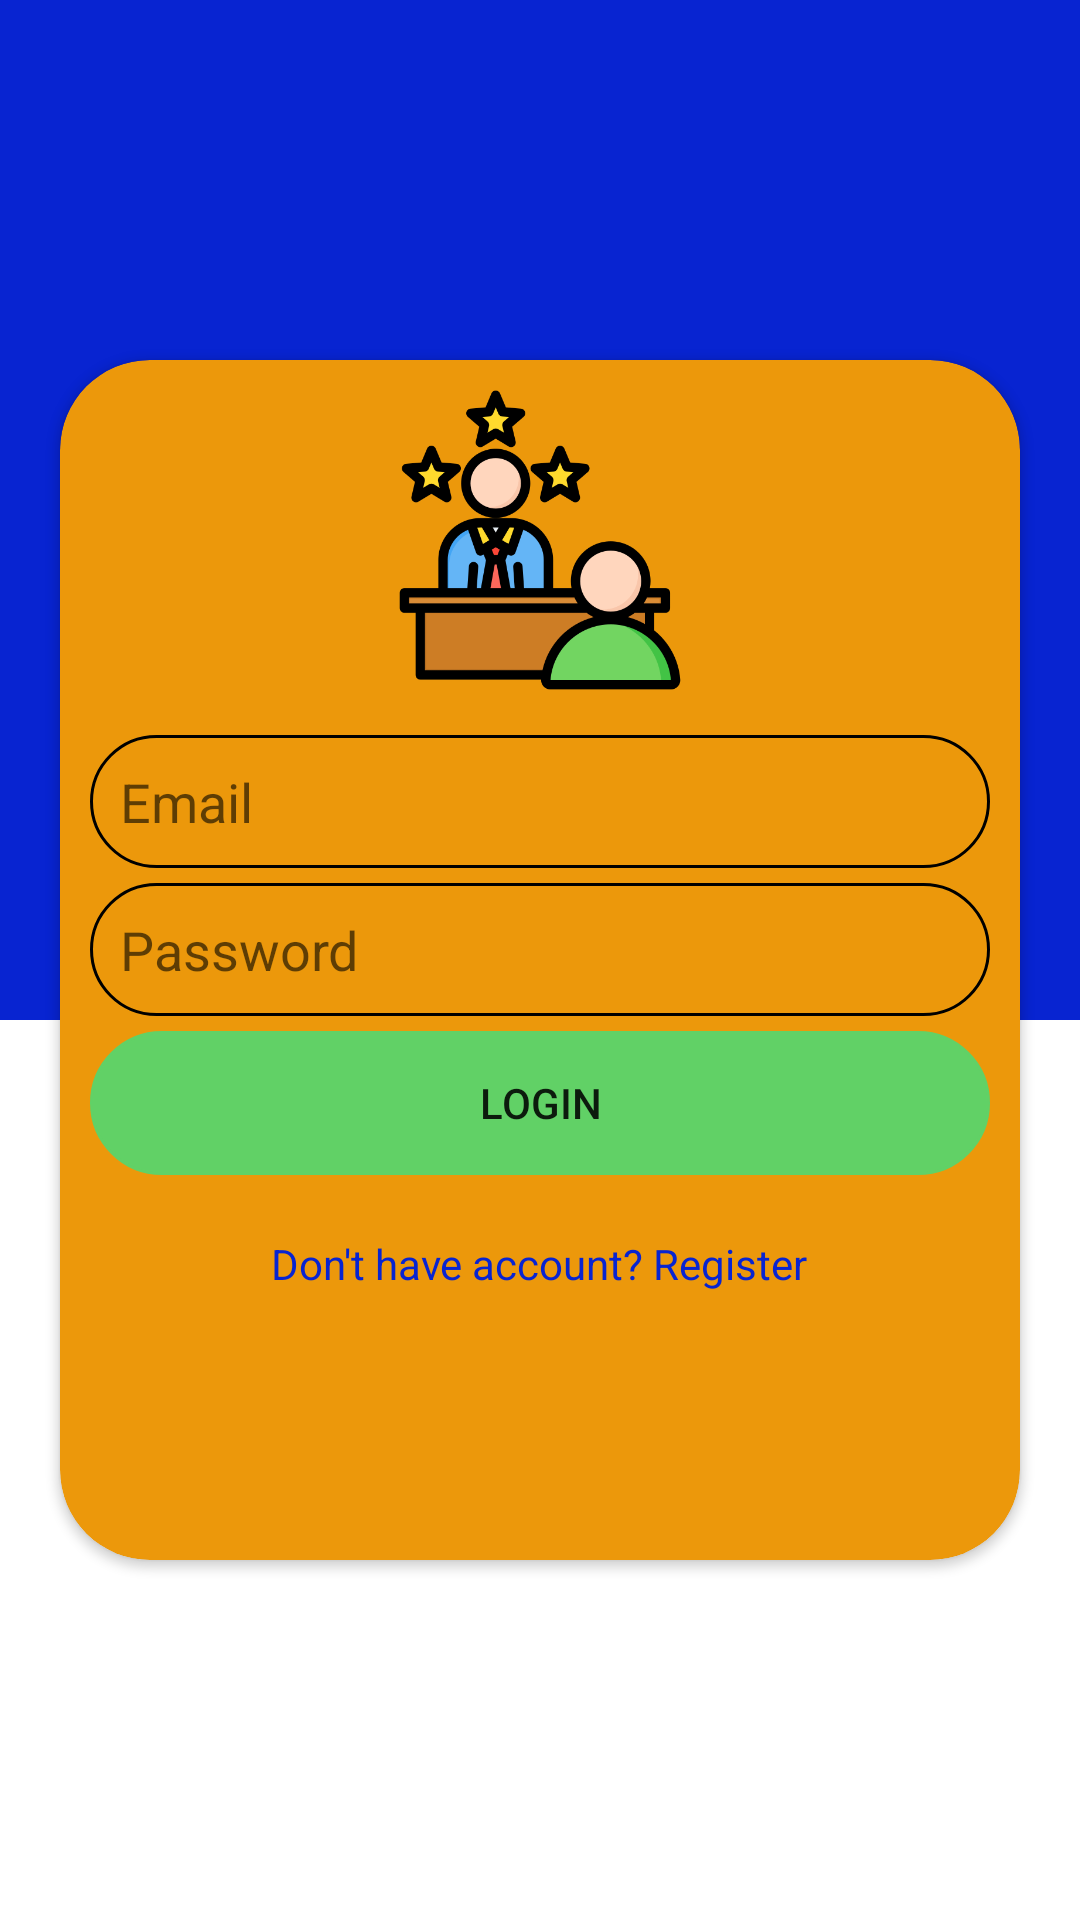

Named icons in this screenshot (1080 × 1920) and their centers, (x=x, y=y):
confidence: (x=540, y=540)
